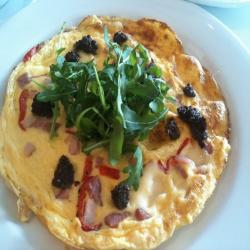omelette: (9, 18, 231, 245)
salad: (41, 56, 174, 140)
